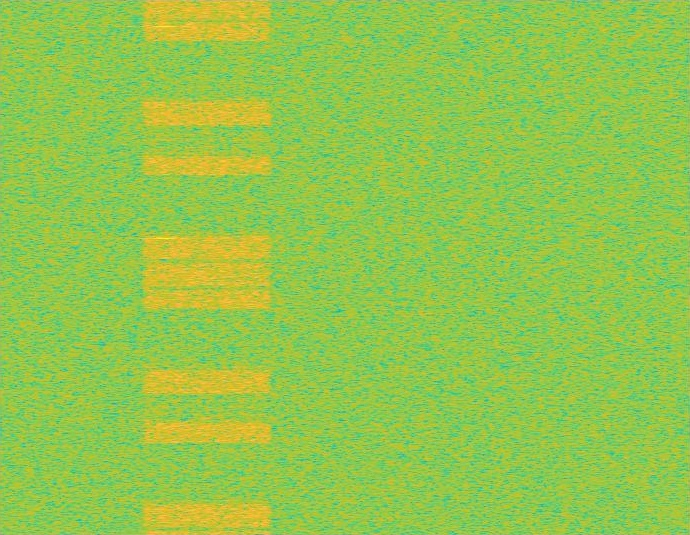LTE: (138, 0, 276, 534)
Radar: (157, 0, 171, 534)
